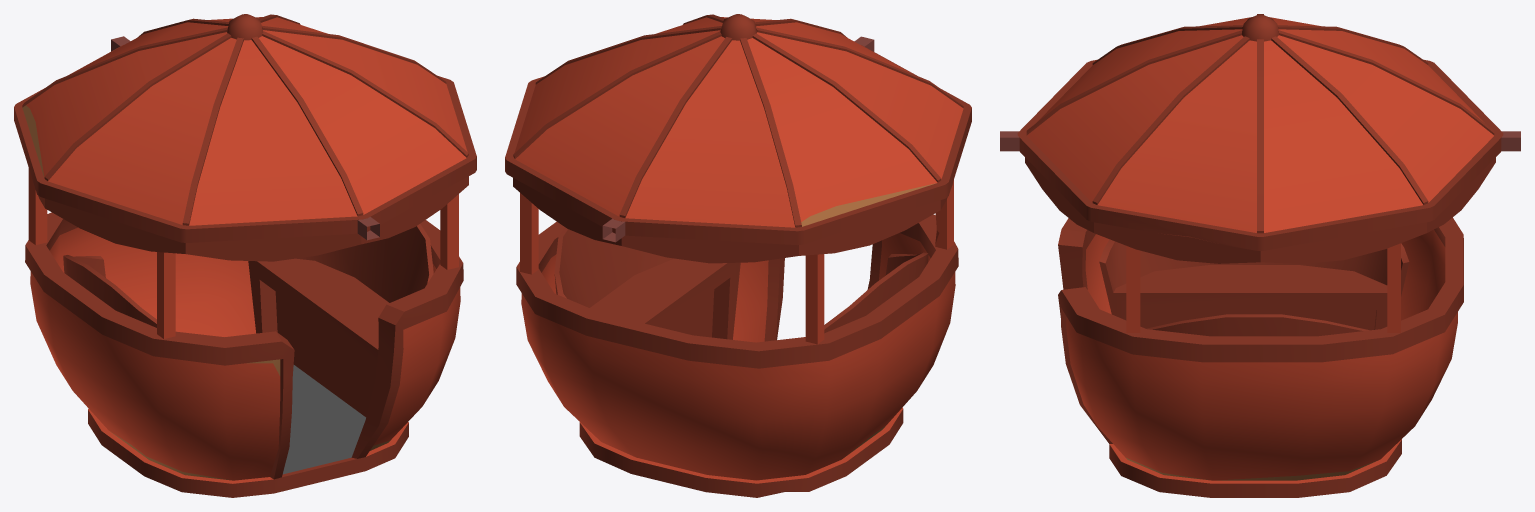
File: SM_Props_Park_02_Cabin_05.fbx
The picture shows the model from 3 angles, left to right: view 1: azimuth 30°, elevation 25°; view 2: azimuth 150°, elevation 25°; view 3: azimuth 270°, elevation 25°; orthographic projection.
Visible parts, largest first — view 1: SM_Props_Park_02_Cabin_05; view 2: SM_Props_Park_02_Cabin_05; view 3: SM_Props_Park_02_Cabin_05.
Boxes of the visible parts, bbox=[...] form: SM_Props_Park_02_Cabin_05: bbox=[14, 14, 476, 497]; SM_Props_Park_02_Cabin_05: bbox=[505, 14, 971, 497]; SM_Props_Park_02_Cabin_05: bbox=[1000, 14, 1520, 497].
Bounding box in the file's own units: 3.17 × 3.02 × 3.4.
